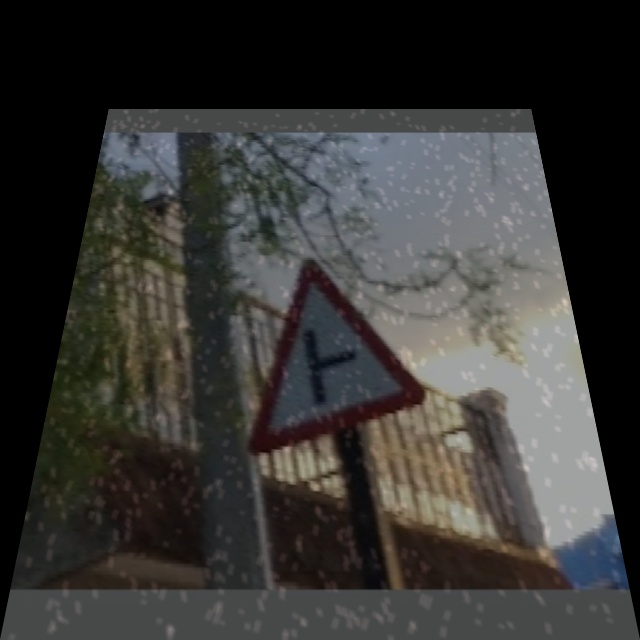Side_Road_Right: (236, 257, 416, 434)
